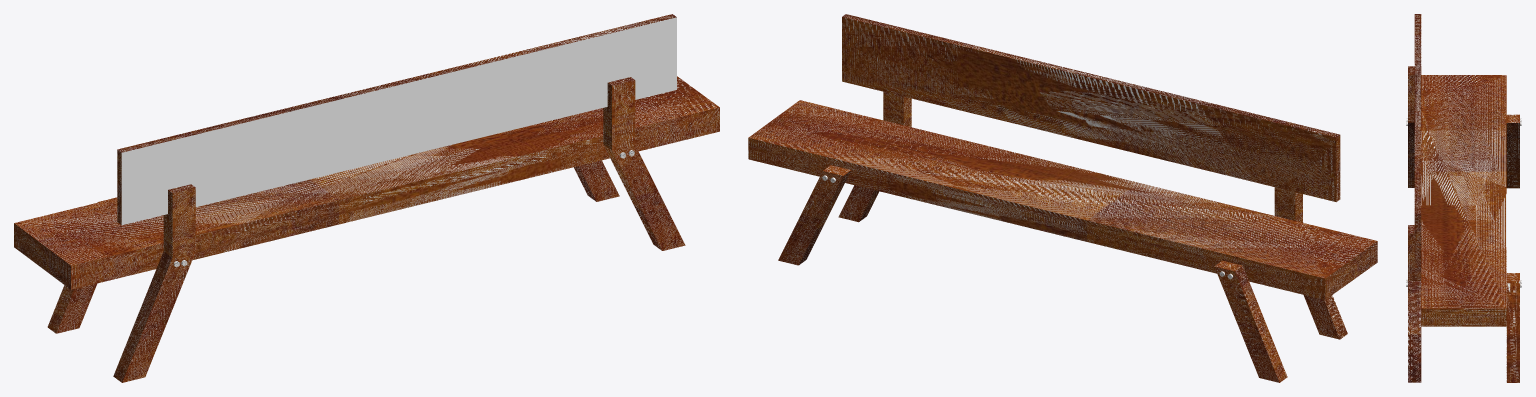
3 renders of one model, left to right at view 1: azimuth 30°, elevation 25°; view 2: azimuth 150°, elevation 25°; view 3: azimuth 270°, elevation 25°, orthographic. The views are drawn at different scales.
Parts seen in each view (by area): view 1: mesh1_mesh1-geometry; view 2: mesh1_mesh1-geometry; view 3: mesh1_mesh1-geometry.
Part boxes in pixels (<box>): mesh1_mesh1-geometry: <box>14,14,719,382</box>; mesh1_mesh1-geometry: <box>748,14,1377,382</box>; mesh1_mesh1-geometry: <box>1406,14,1521,382</box>.
Bounding box in the file's own units: 0.9309 × 0.3098 × 0.1936.
